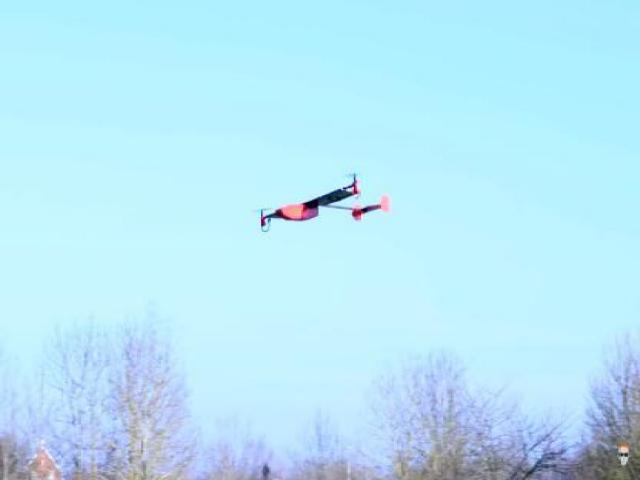uav: (254, 166, 397, 240)
